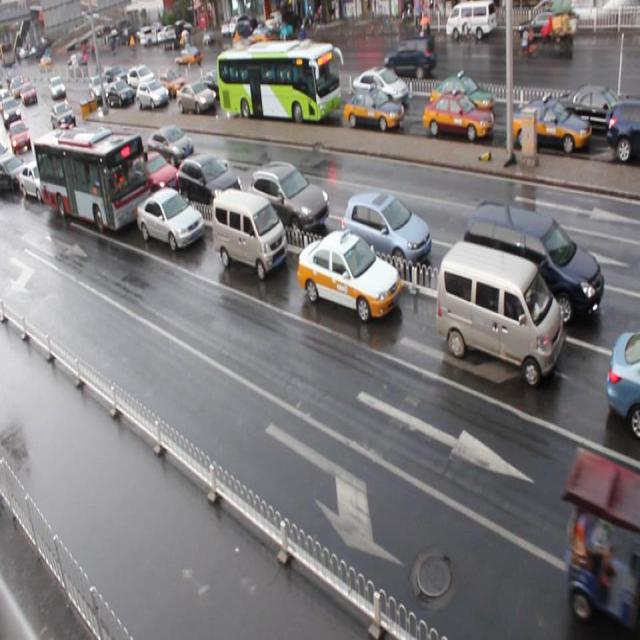car: (298, 228, 402, 322), (341, 192, 432, 276), (250, 161, 330, 234), (512, 98, 592, 156), (549, 84, 630, 139), (137, 186, 205, 251), (178, 152, 244, 212), (606, 328, 640, 434), (424, 92, 494, 140), (429, 74, 494, 120), (344, 84, 404, 133), (353, 67, 409, 108), (137, 146, 181, 195), (606, 97, 640, 159), (147, 125, 194, 163), (21, 157, 58, 202), (84, 132, 122, 171), (285, 67, 325, 102), (177, 80, 216, 113), (1, 152, 30, 194), (202, 72, 232, 104), (136, 81, 170, 109), (128, 64, 156, 92), (158, 72, 188, 98), (106, 80, 133, 106)
truck: (437, 240, 562, 388), (464, 198, 604, 328), (212, 188, 288, 278)
van: (35, 126, 154, 234), (216, 44, 340, 123)
